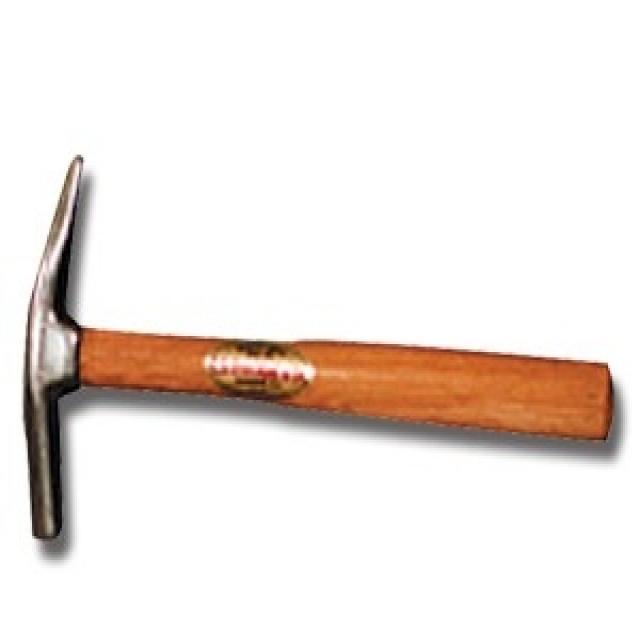hammer: (9, 138, 618, 554)
